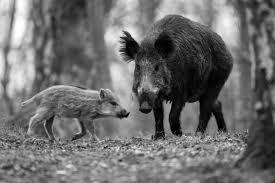wildboar: (118, 13, 236, 141), (17, 82, 132, 144)
